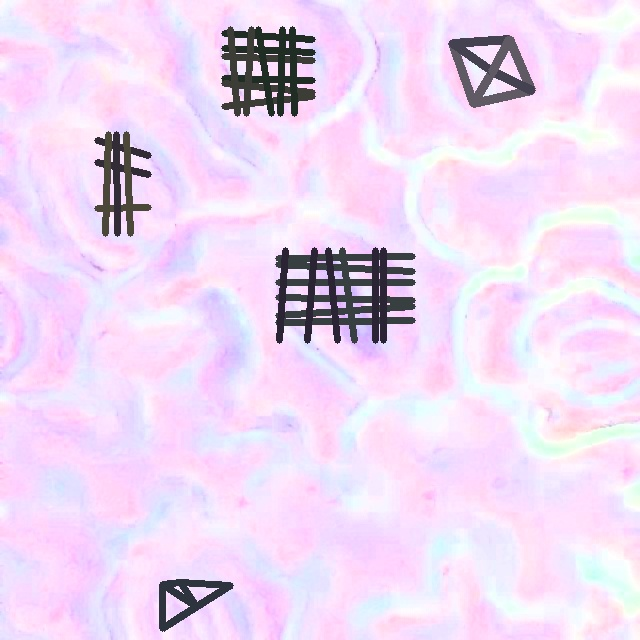close: (221, 26, 315, 116), (94, 131, 151, 236)
open: (275, 248, 415, 343), (448, 35, 535, 107), (159, 580, 233, 631)
